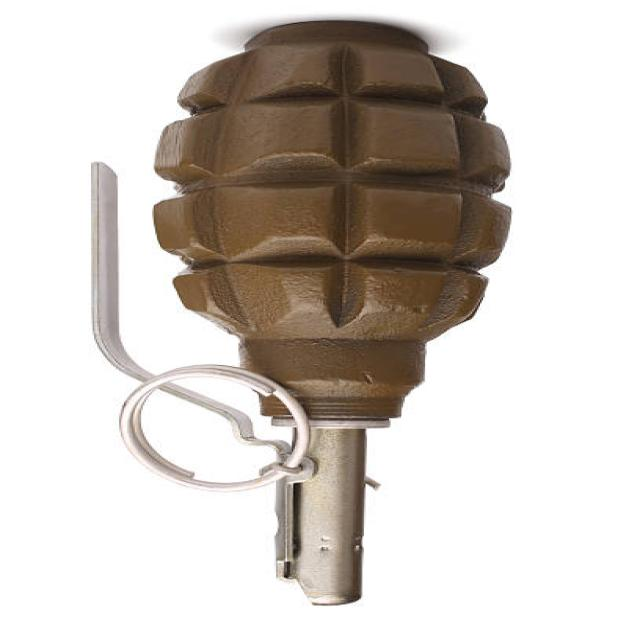grenade: (71, 19, 520, 616)
